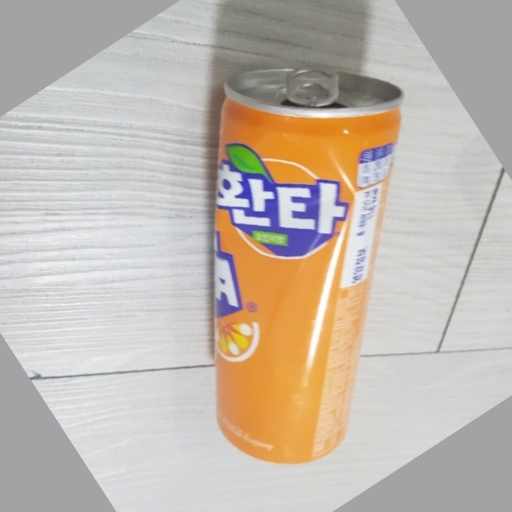Metal_0: (209, 63, 405, 468)
